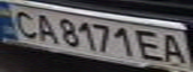1: (112, 25, 136, 58), (72, 19, 96, 52)
7: (90, 21, 115, 54)
8: (54, 16, 78, 48)
A: (157, 30, 193, 69), (30, 11, 60, 44)
C: (6, 7, 42, 39)
E: (133, 28, 169, 63)
